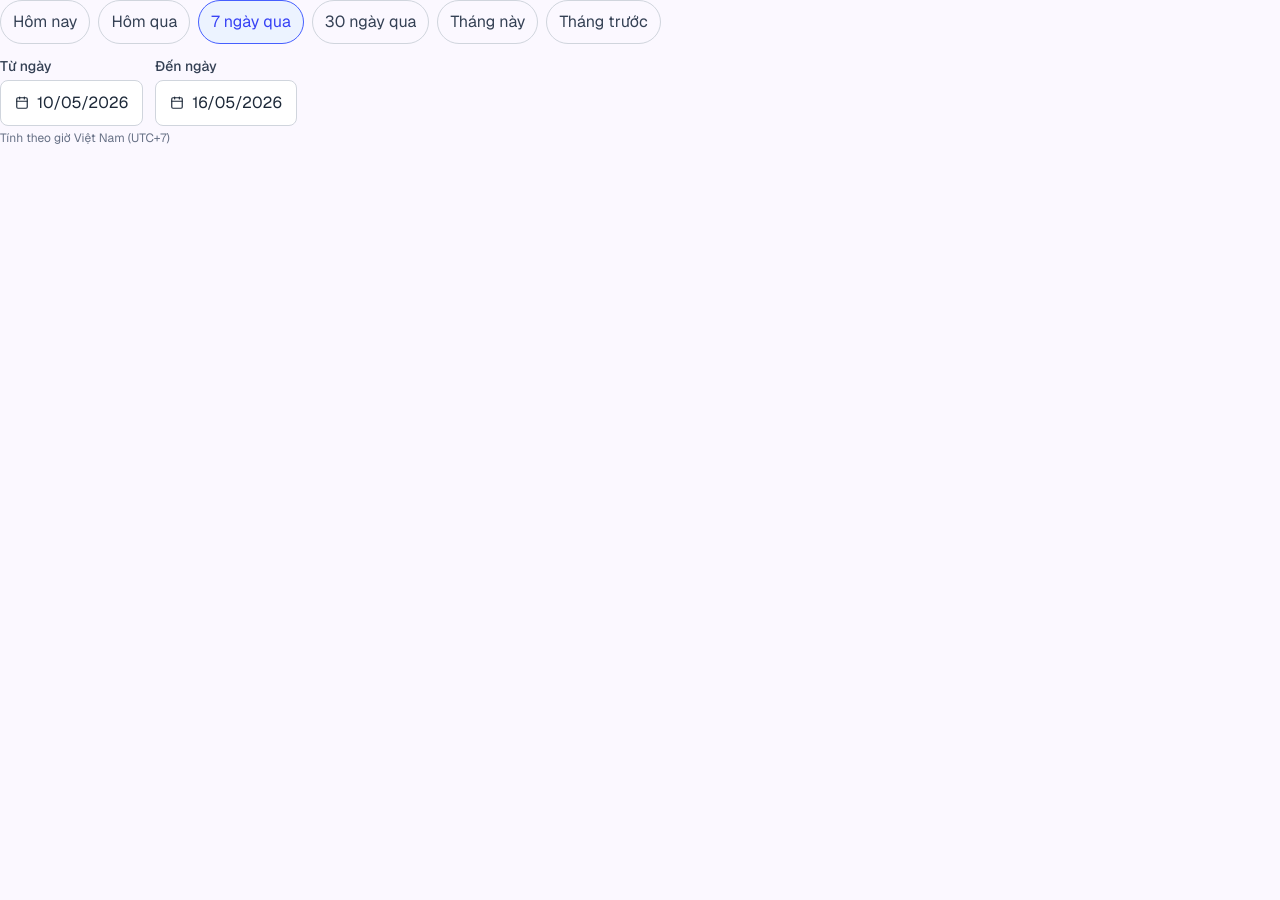
Test: DateRangeReportFilter › closes popover on Escape key
Click the button with id "report-date-from": [72, 103] box [0, 80, 143, 126]
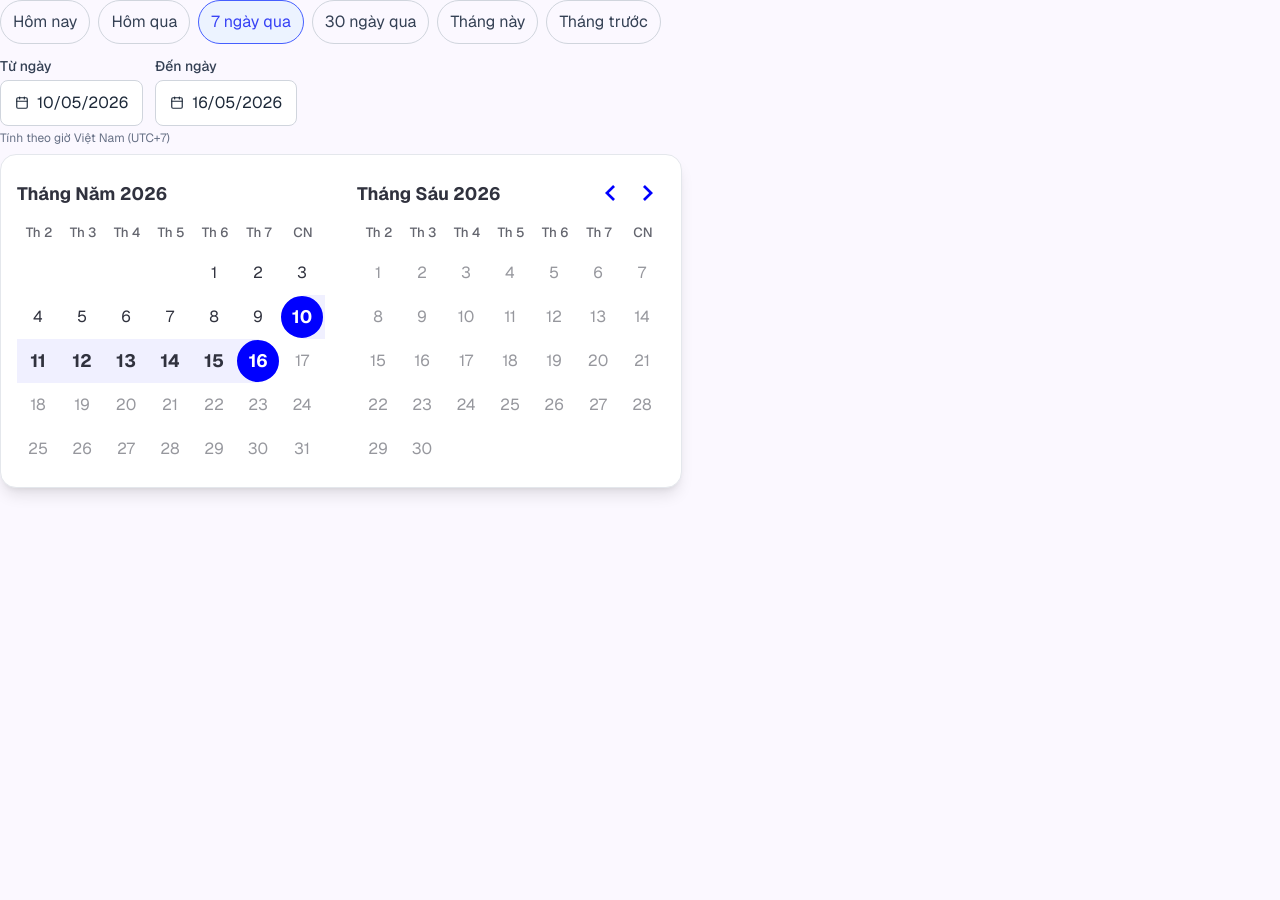
Result: the dialog is shown at [0, 154, 682, 488]
Press Escape
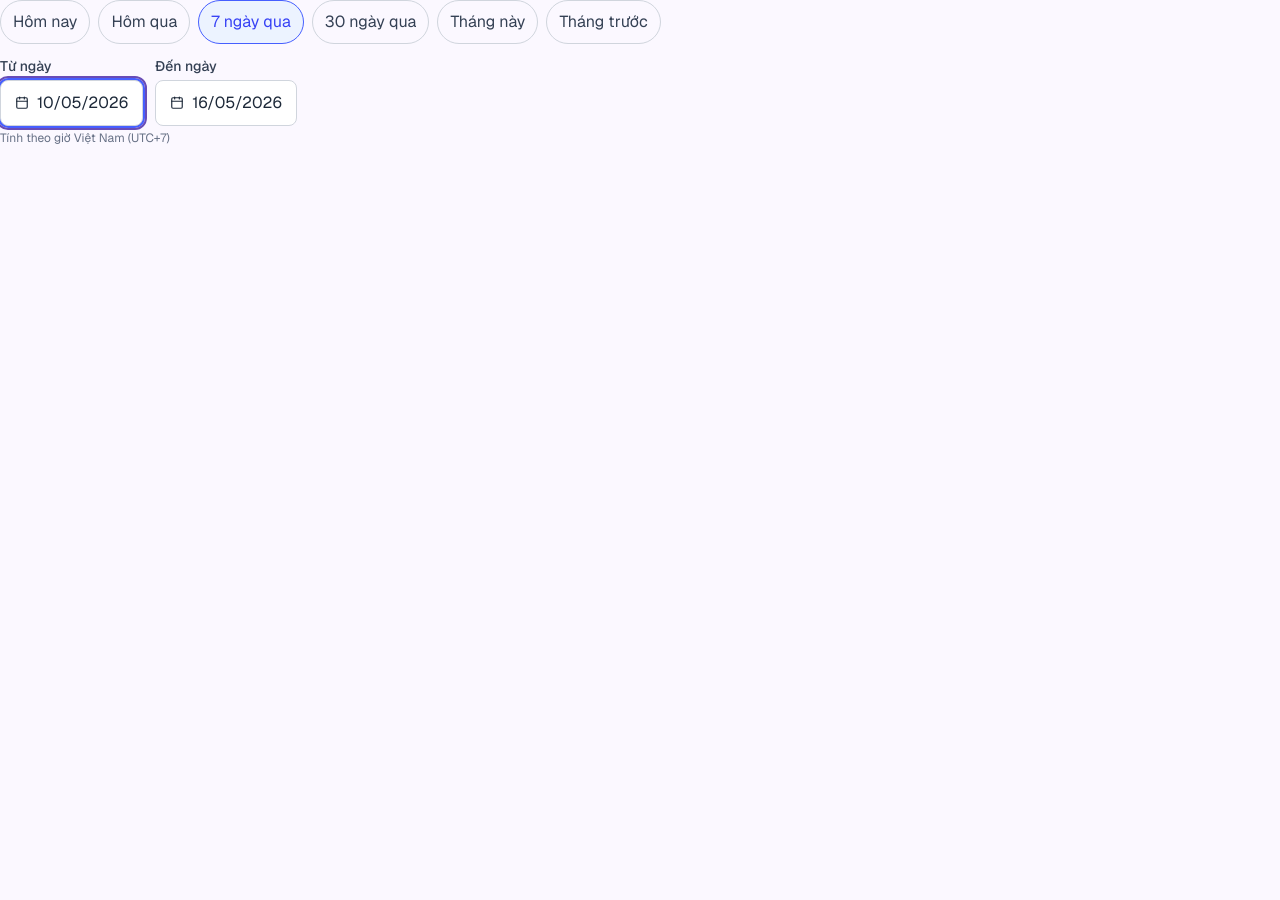
Result: the dialog is gone
